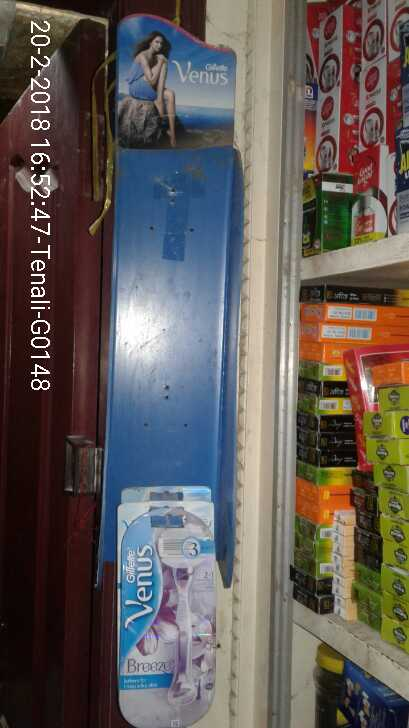venus: (113, 508, 230, 725)
